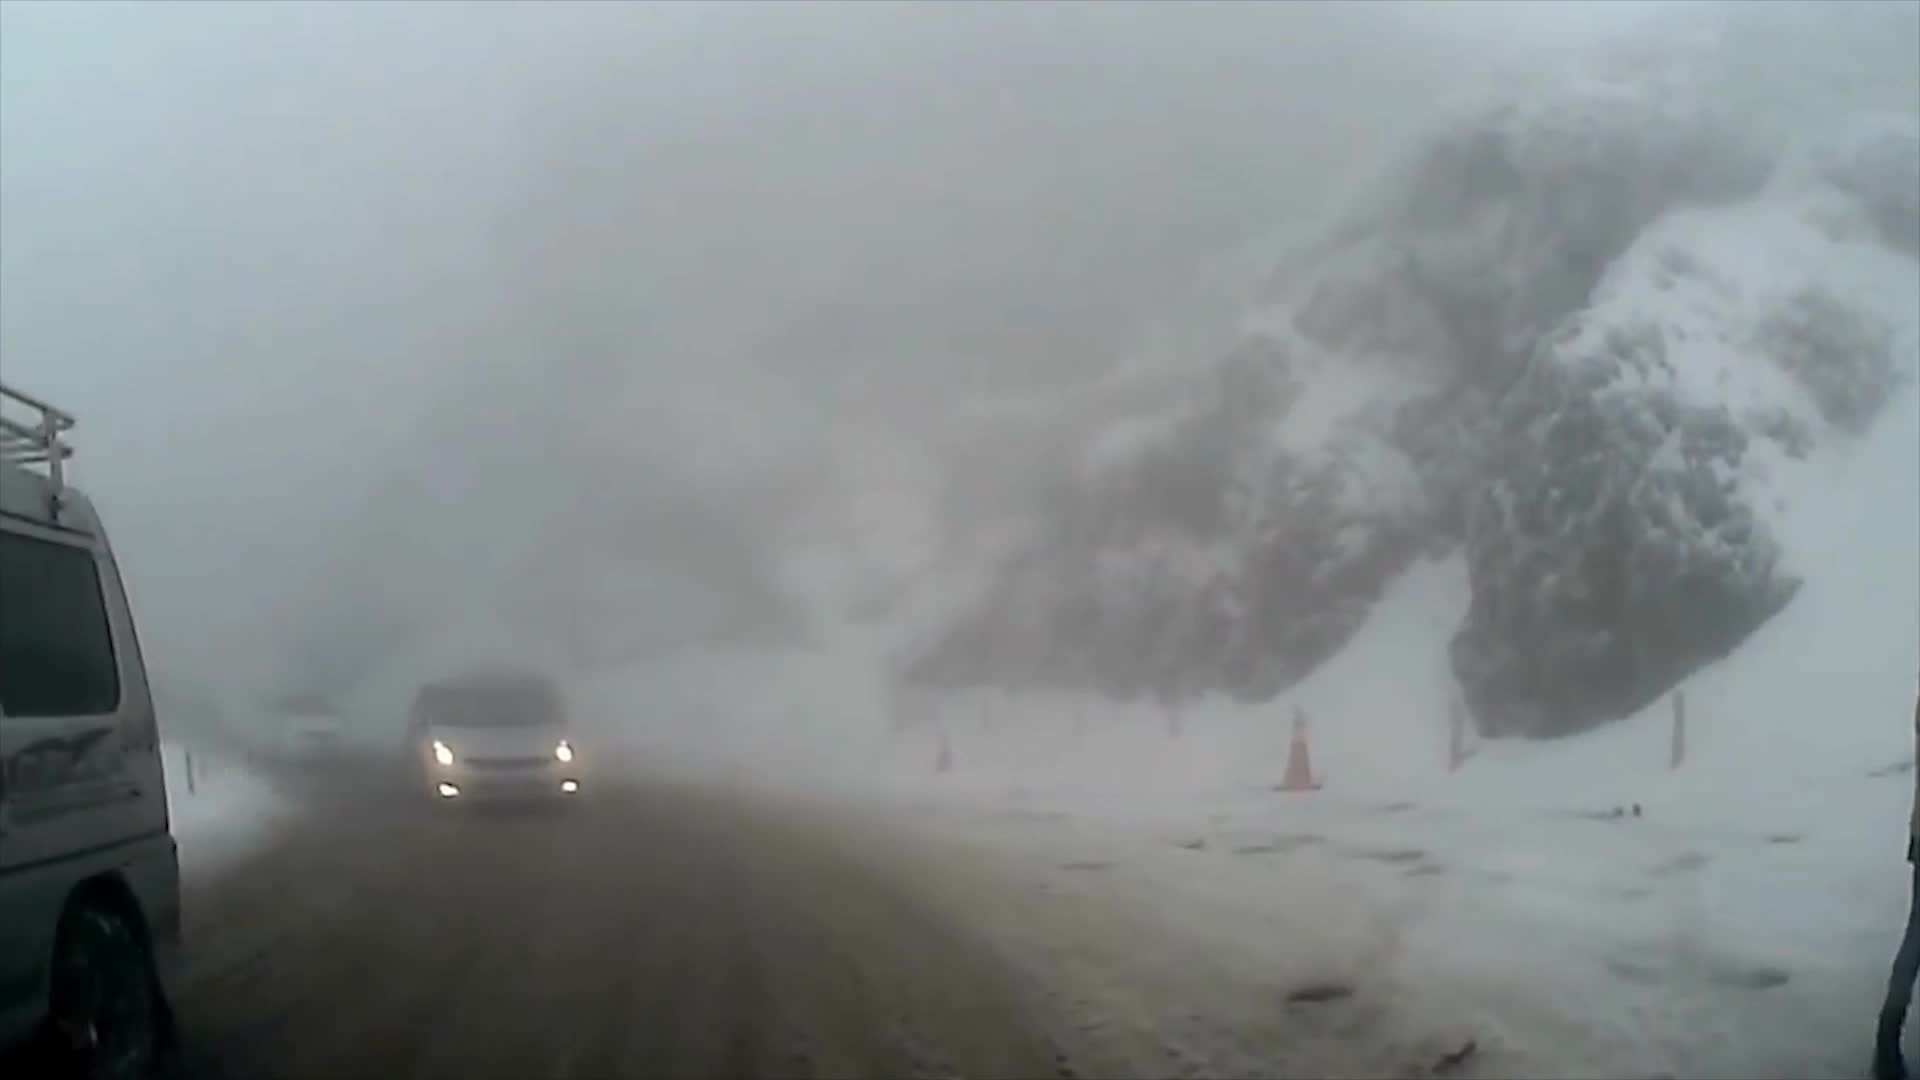pedestrian: (1858, 590, 1919, 1076)
vehicle: (0, 383, 181, 1078), (395, 675, 578, 822)
